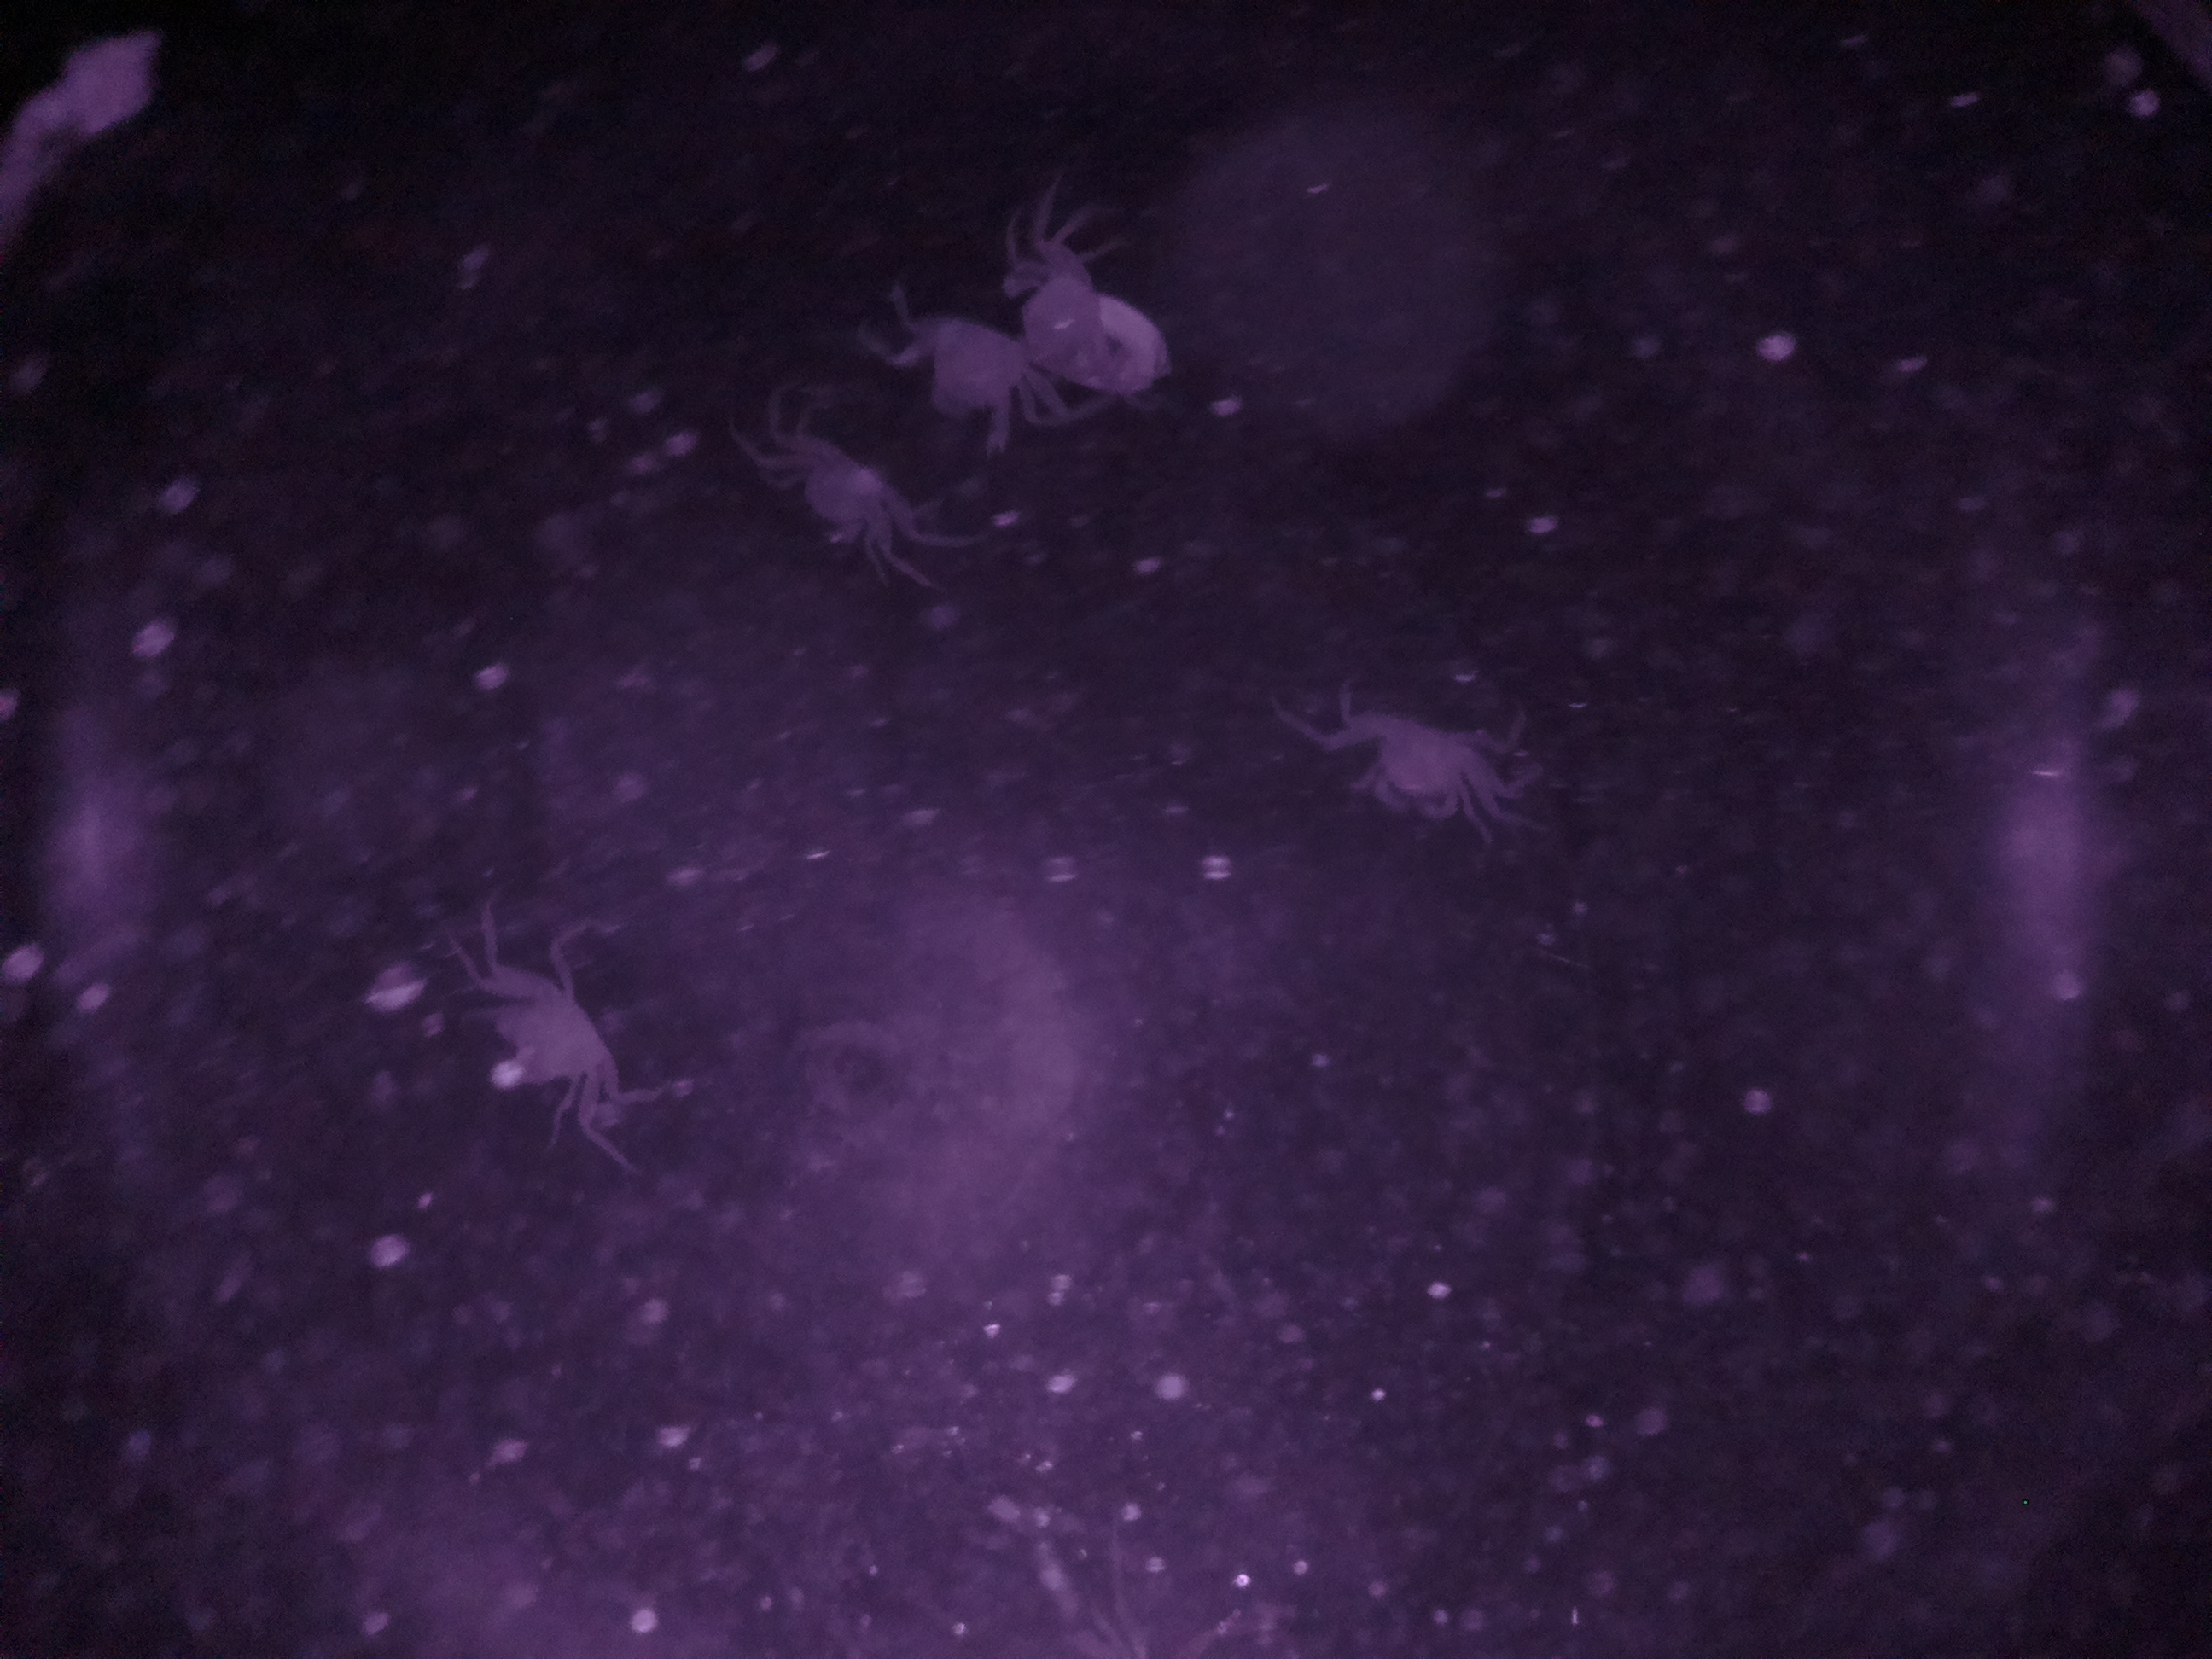Crab: (1259, 666, 1548, 843), (733, 394, 970, 599), (462, 915, 665, 1154)
